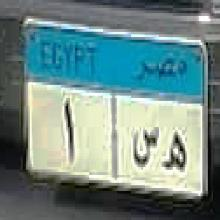1: (61, 96, 77, 161)
haa: (161, 125, 187, 179)
seen: (131, 123, 159, 172)
